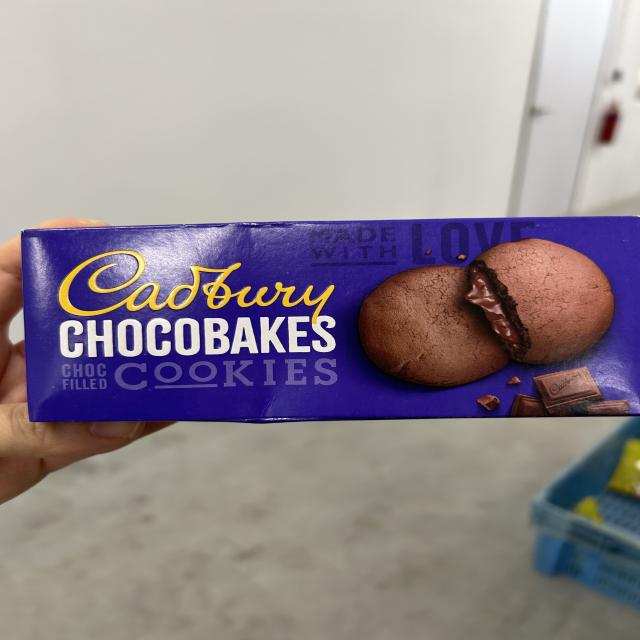object_name: (17, 219, 640, 413)
